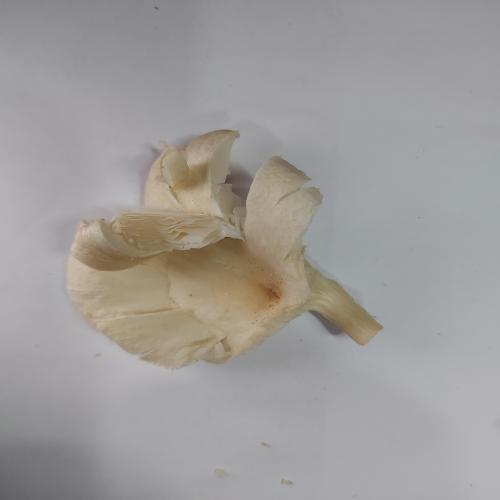Oyster Mushroom: (64, 128, 384, 370)
